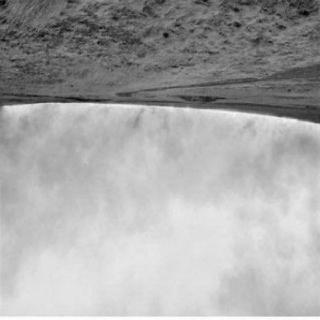Fire: (2, 100, 320, 150)
Smoke: (2, 125, 320, 236)
